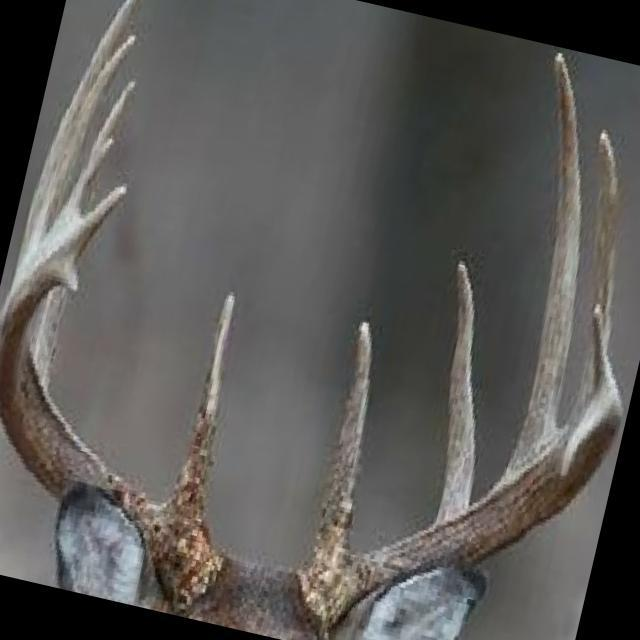E1: (47, 137, 114, 232)
E2: (50, 260, 78, 294)
E3: (591, 302, 618, 396)
L-F: (295, 397, 623, 630)
L-G1: (310, 318, 373, 569)
L-G2: (436, 259, 475, 520)
L-G3: (508, 50, 581, 465)
R-F: (0, 182, 224, 616)
R-G1: (162, 289, 236, 534)
